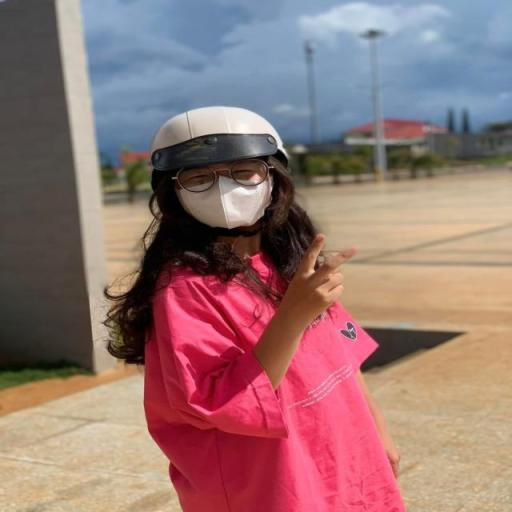with helmet: (141, 104, 294, 172)
